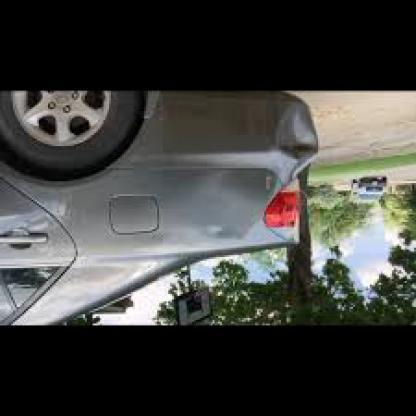dent: (1, 192, 77, 228)
